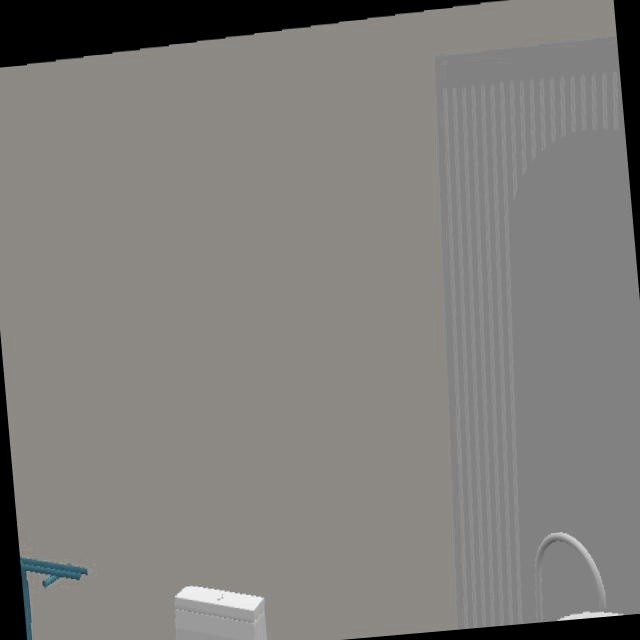toilet: (173, 587, 268, 640)
washbasin: (557, 610, 623, 620)
